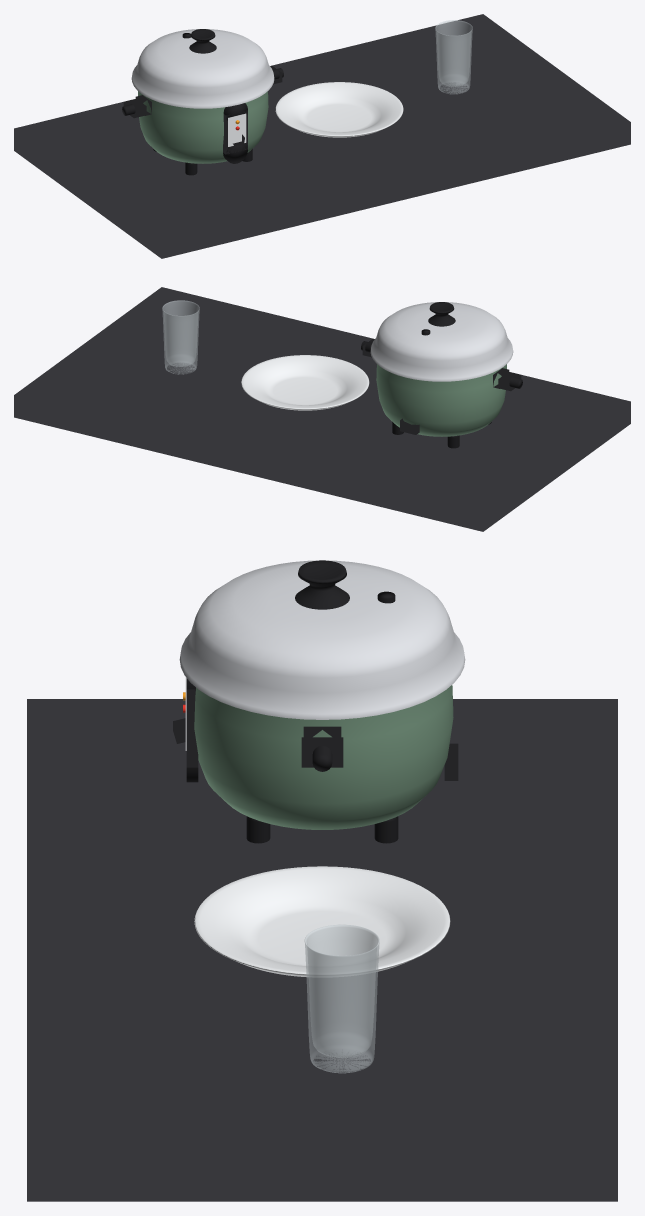
Rendered from KitchenUtensilsSet.obj.
3 views of the same model, one above another, from view 1: azimuth 30°, elevation 25°; view 2: azimuth 150°, elevation 25°; view 3: azimuth 270°, elevation 25° (orthographic). The views are drawn at different scales.
Visible parts, largest first — view 1: DisplayTable, Cooker_Lid_Dome, Plate_Plate_Ceramic, Cooker_Cooker_Body, Glass_DrinkingGlass_Mesh, Cooker_Lid_Knob, Cooker_Panel_Faceplate, Cooker_Panel_Bezel, Cooker_Panel_Bezel_Bot; view 2: DisplayTable, Cooker_Lid_Dome, Cooker_Cooker_Body, Plate_Plate_Ceramic, Glass_DrinkingGlass_Mesh, Cooker_Lid_Knob; view 3: DisplayTable, Cooker_Lid_Dome, Cooker_Cooker_Body, Plate_Plate_Ceramic, Glass_DrinkingGlass_Mesh, Cooker_Lid_Knob, Cooker_Handle_Right_Wing.
Boxes of the visible parts, x1,y1,x2,y2 form: DisplayTable: (14, 14, 630, 258); Cooker_Lid_Dome: (131, 29, 274, 108); Plate_Plate_Ceramic: (275, 82, 403, 137); Cooker_Cooker_Body: (138, 91, 268, 163); Glass_DrinkingGlass_Mesh: (435, 20, 472, 94); Cooker_Lid_Knob: (189, 29, 216, 53); Cooker_Panel_Faceplate: (228, 113, 246, 146); Cooker_Panel_Bezel: (223, 110, 247, 154); Cooker_Panel_Bezel_Bot: (223, 143, 247, 163); DisplayTable: (14, 287, 630, 531); Cooker_Lid_Dome: (370, 302, 513, 381); Cooker_Cooker_Body: (376, 364, 506, 436); Plate_Plate_Ceramic: (241, 355, 369, 410); Glass_DrinkingGlass_Mesh: (162, 300, 199, 374); Cooker_Lid_Knob: (428, 302, 455, 326); DisplayTable: (27, 699, 617, 1201); Cooker_Lid_Dome: (179, 560, 465, 719); Cooker_Cooker_Body: (194, 685, 453, 829); Plate_Plate_Ceramic: (194, 866, 450, 977); Glass_DrinkingGlass_Mesh: (304, 924, 379, 1073); Cooker_Lid_Knob: (295, 560, 349, 609); Cooker_Handle_Right_Wing: (301, 737, 343, 767).
Bounding box in the file's own units: 1.1 × 0.32 × 0.6.
